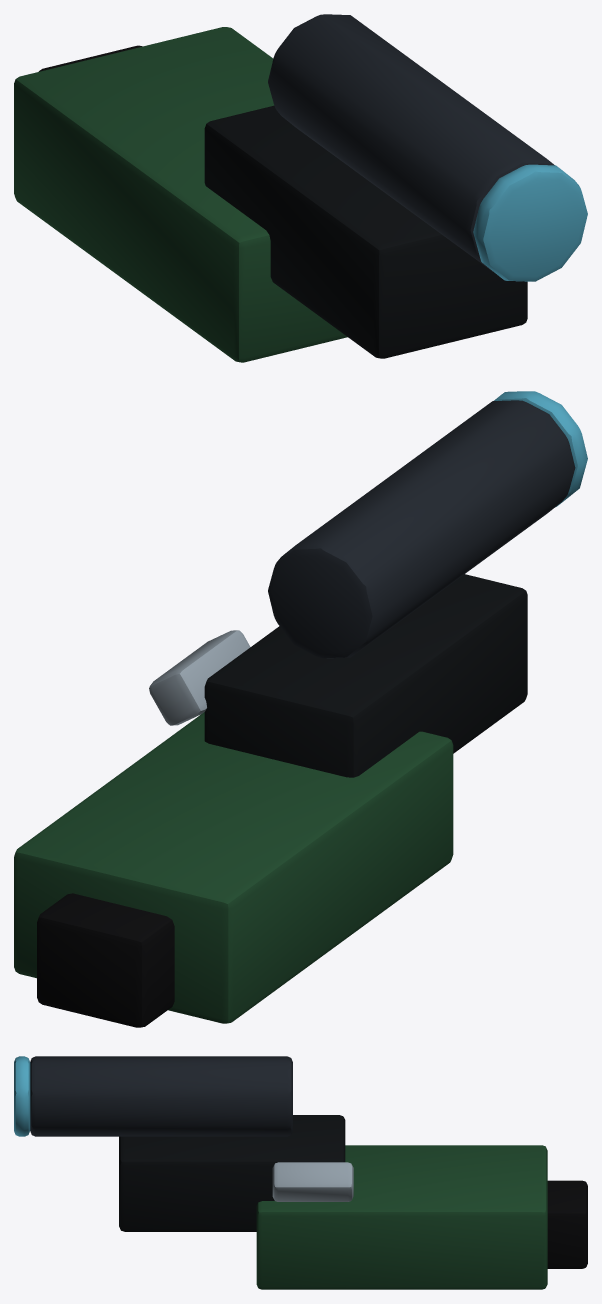
The model's file is SniperBody.obj.
The picture shows the model from 3 angles, top to bottom: view 1: azimuth 30°, elevation 25°; view 2: azimuth 150°, elevation 25°; view 3: azimuth 270°, elevation 25°; orthographic projection. The views are drawn at different scales.
Parts seen in each view (by area): view 1: SniperBody; view 2: SniperBody; view 3: SniperBody.
Part boxes in pixels (left/top/right/bottom): SniperBody: left=14, top=14, right=587, bottom=362; SniperBody: left=14, top=391, right=587, bottom=1027; SniperBody: left=14, top=1056, right=587, bottom=1289.
Size of the model in its own units: 0.4299 by 0.5379 by 1.42.
